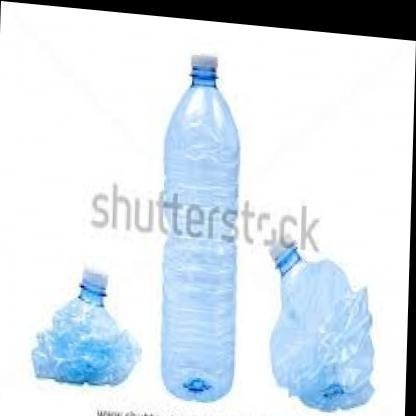trash: (162, 55, 238, 400), (271, 246, 372, 409), (32, 271, 140, 383)
